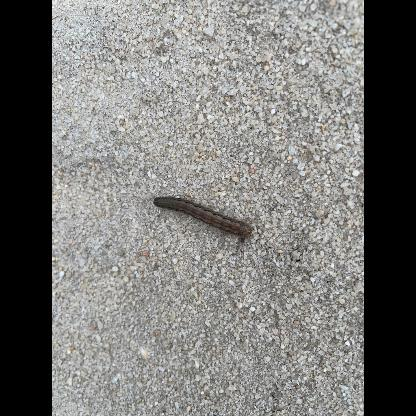Fall Armyworm Larvae: (152, 196, 254, 238)
